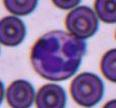N: (30, 29, 86, 80)
